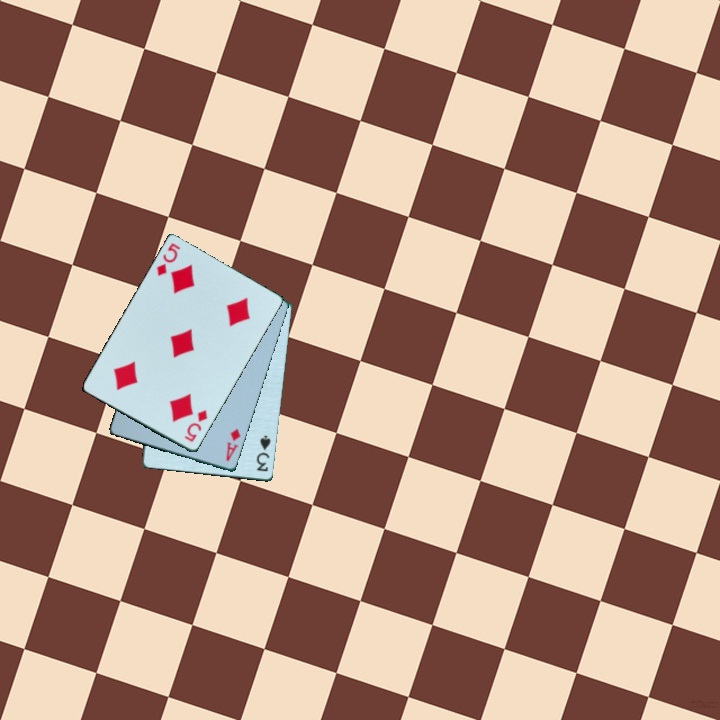3s: (253, 432, 274, 475)
5d: (153, 240, 183, 279), (181, 407, 210, 445)
Ad: (223, 425, 244, 465)
